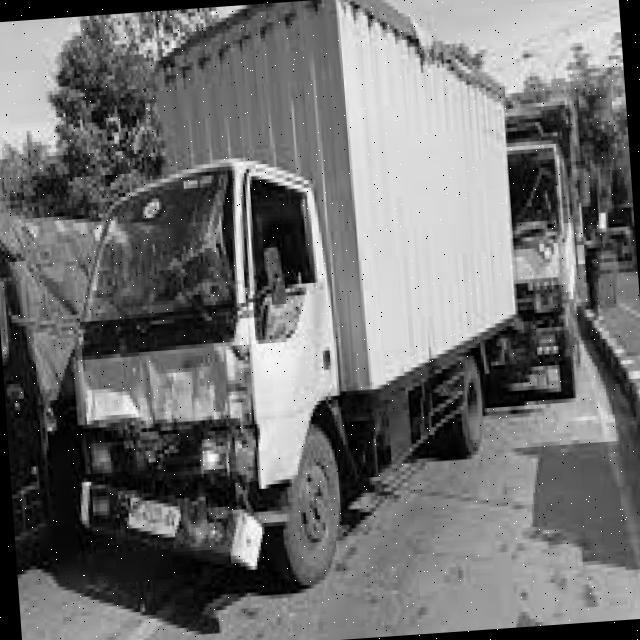truck: (34, 116, 380, 617)
